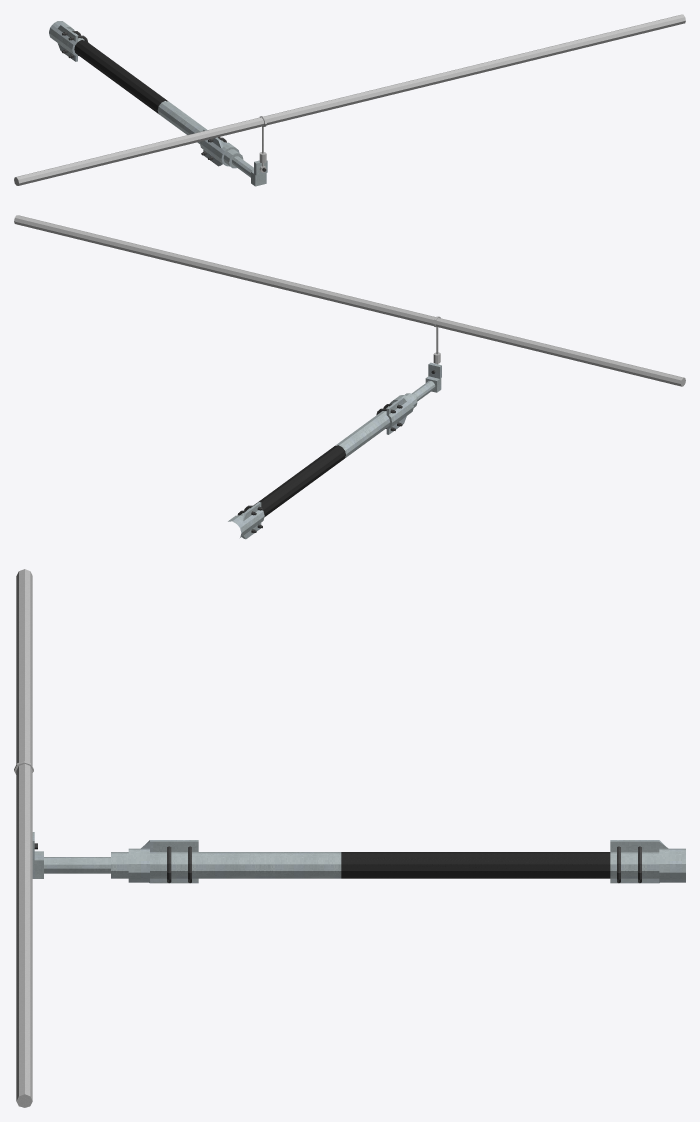
Rendered from glkg-11m32000237461067-geode.glb.
3 views of the same model, one above another, from view 1: azimuth 30°, elevation 25°; view 2: azimuth 150°, elevation 25°; view 3: azimuth 270°, elevation 25° (orthographic). The views are drawn at different scales.
Visible parts, largest first — view 1: Node; view 2: Node; view 3: Node.
Boxes of the visible parts, x1,y1,x2,y2 form: Node: [14, 14, 685, 186]; Node: [14, 215, 685, 539]; Node: [14, 569, 685, 1107].
Size of the model in its own units: 4.25 by 0.4693 by 2.3.
4 materials, 4 textured.
